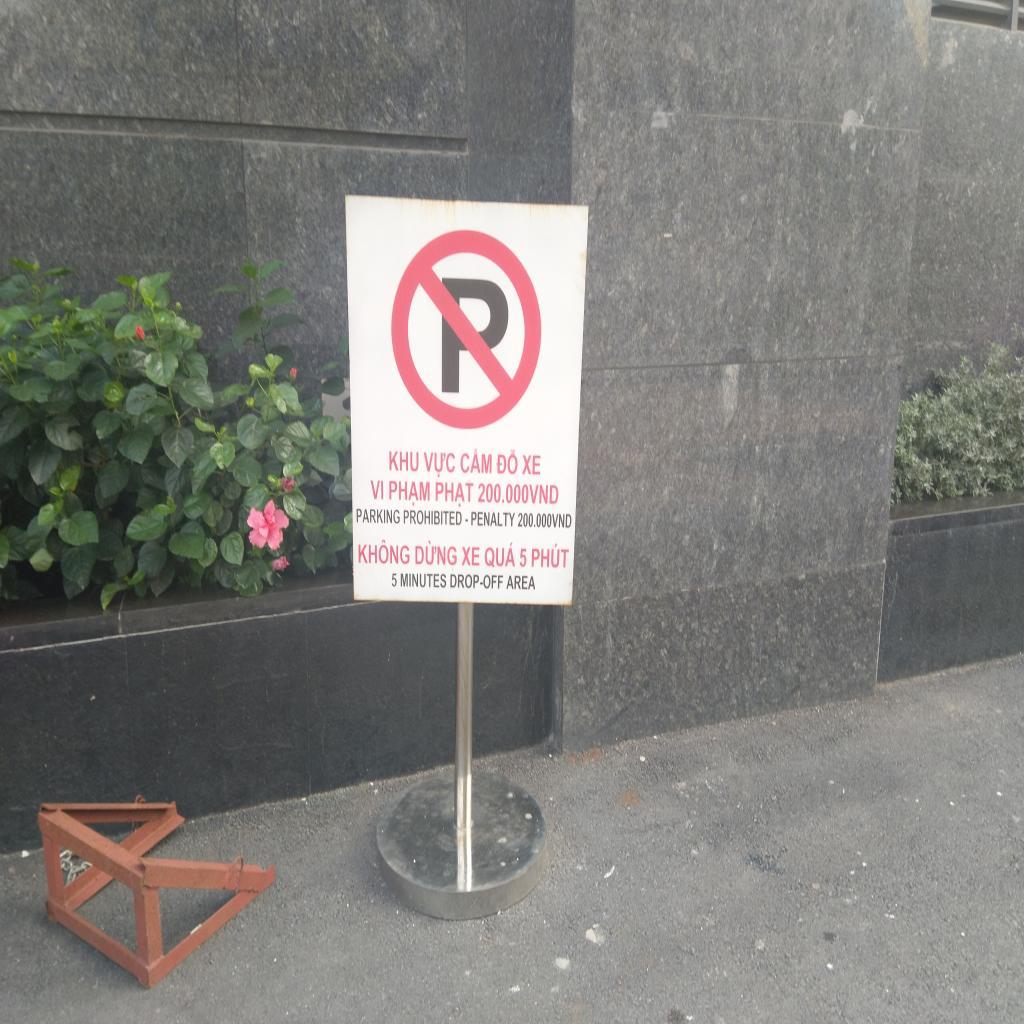text: (358, 538, 410, 566), (414, 538, 459, 567), (476, 482, 530, 505), (388, 480, 431, 508), (434, 481, 474, 510), (530, 542, 570, 570), (403, 509, 463, 526), (450, 573, 504, 591), (460, 447, 492, 476), (484, 541, 516, 570), (423, 451, 456, 478), (400, 572, 447, 590), (470, 511, 516, 528), (529, 482, 560, 507), (356, 508, 400, 525), (388, 450, 420, 472), (495, 447, 519, 475), (517, 512, 553, 528), (505, 574, 537, 591), (522, 453, 542, 476), (461, 546, 480, 567), (369, 479, 384, 501), (552, 513, 572, 529), (518, 548, 528, 568), (391, 572, 397, 588)
